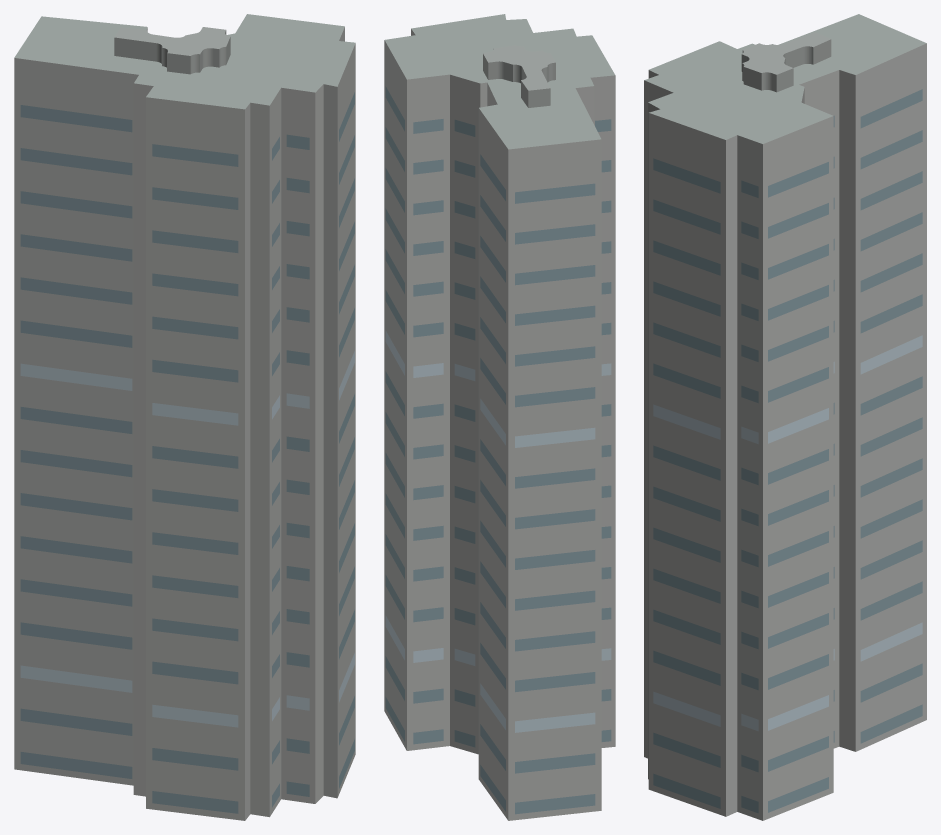
File: fallback-gangdong-lotte-castle-first-105.glb
3 renders of one model, left to right at view 1: azimuth 30°, elevation 25°; view 2: azimuth 150°, elevation 25°; view 3: azimuth 270°, elevation 25°, orthographic. The views are drawn at different scales.
Parts seen in each view (by area): view 1: fallback-gangdong-lotte-castle-first-105; view 2: fallback-gangdong-lotte-castle-first-105; view 3: fallback-gangdong-lotte-castle-first-105.
Part boxes in pixels (x1,y1,x2,y2): fallback-gangdong-lotte-castle-first-105: (14, 14, 355, 820); fallback-gangdong-lotte-castle-first-105: (384, 14, 615, 820); fallback-gangdong-lotte-castle-first-105: (644, 14, 926, 820).
Size of the model in its own units: 38.2 by 95 by 35.05.
